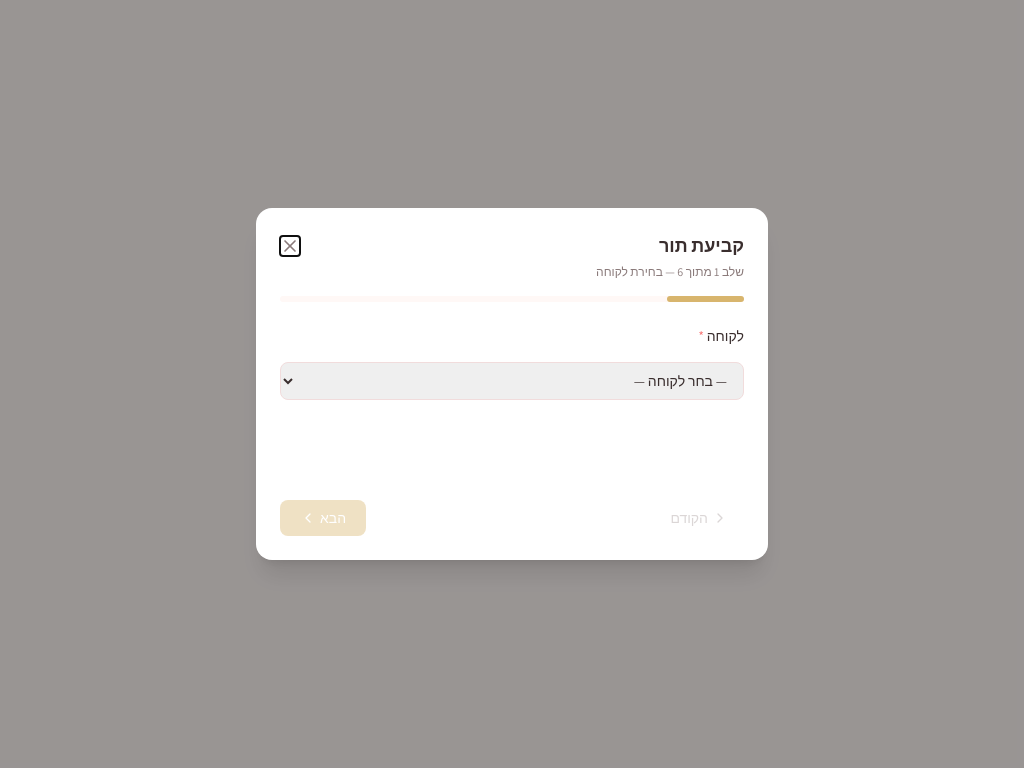
BookAppointmentModal › shows "no active packages" when the fetched series list is empty for the selected customer
Select "לקוחה בדיקה" in the dropdown at (512,381), box x1=280 y1=362 x2=744 y2=400
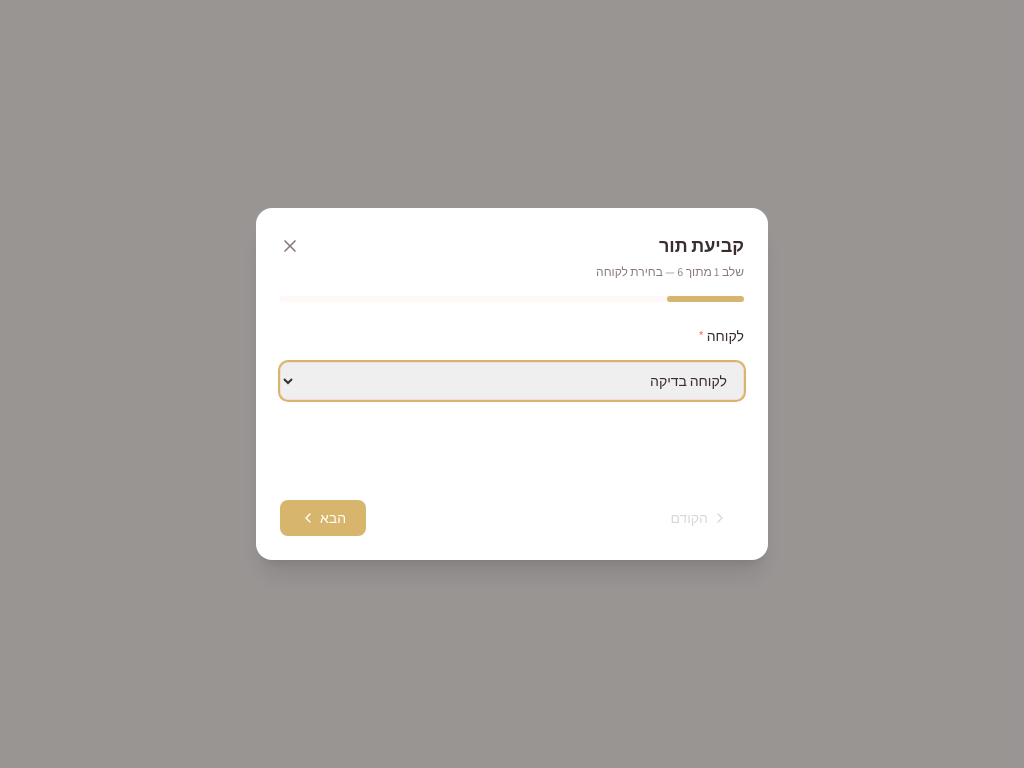
Click the button "הבא" at (323,518), box x1=280 y1=500 x2=366 y2=536
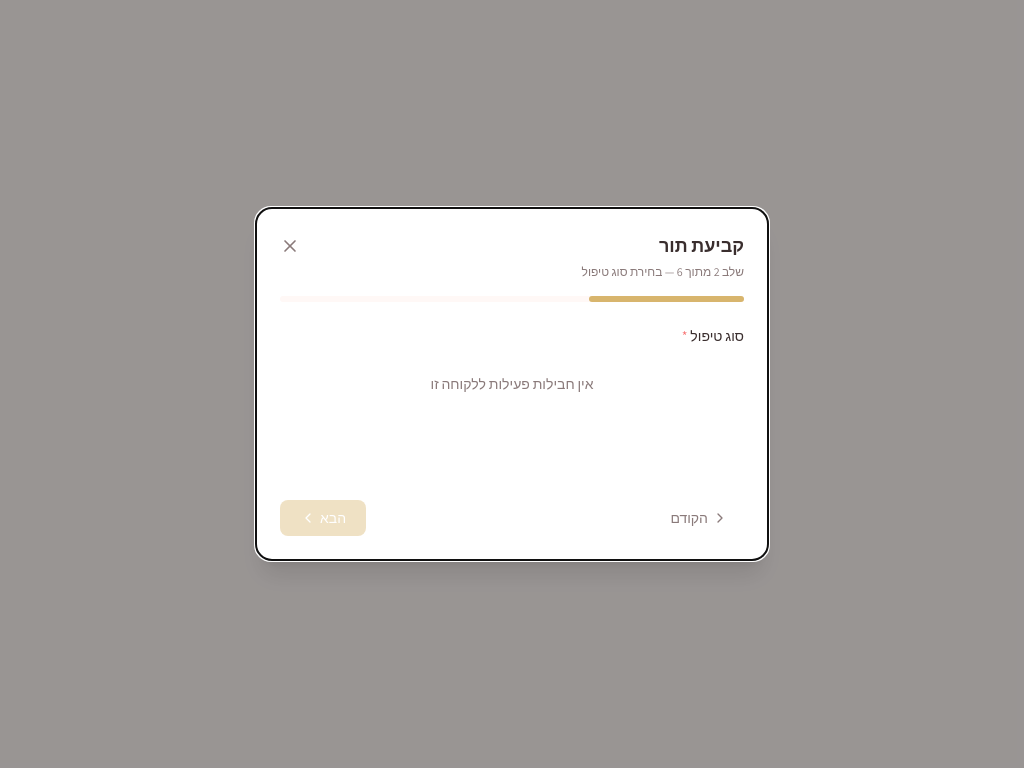
Expected: the text "אין חבילות פעילות ללקוחה זו" is shown, x1=430 y1=375 x2=594 y2=393
